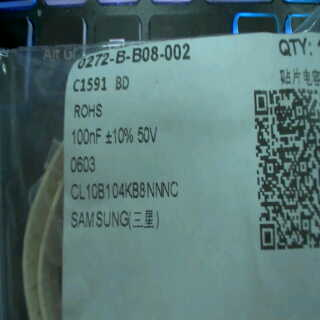100nF: (69, 121, 102, 149)
